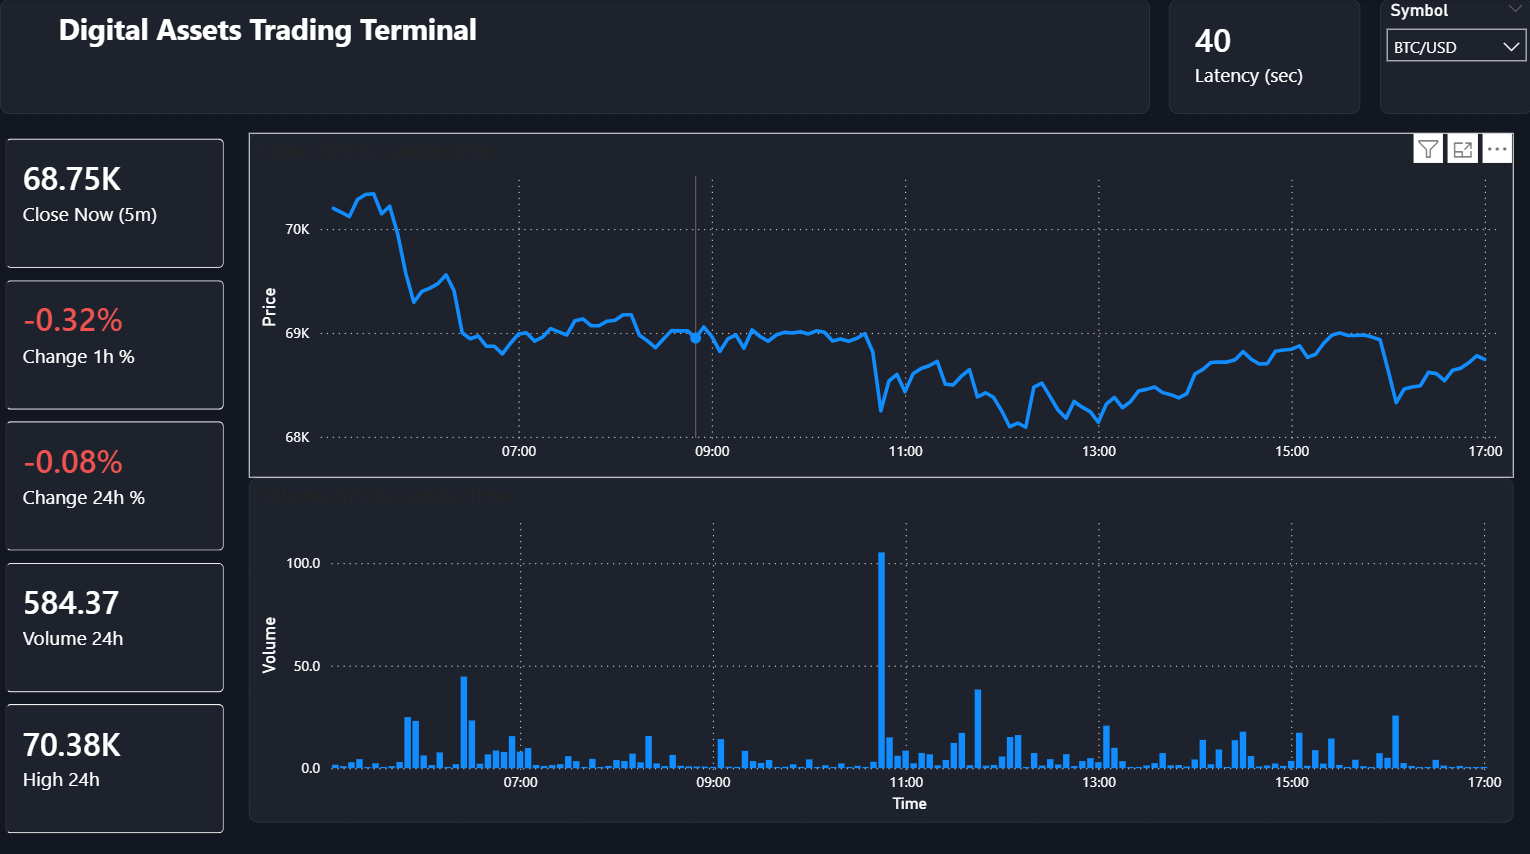

The dashboard page shown, as its layout file describes it:
{"tool":"powerbi","page":{"name":"Overview","canvas":[1280,720],"ordinal":0},"visuals":[{"type":"textbox","box":[0,0,960,96],"z":0},{"type":"columnChart","fields":{"Category":["analytics fct_candles_5m.candle_time"],"Y":["_Measure.Volume (5m)"]},"box":[208,400,1056,288],"z":1000},{"type":"lineChart","fields":{"Category":["analytics fct_candles_5m.candle_time"],"Y":["_Measure.Close (5m)"]},"box":[208,112,1056,288],"z":2000},{"type":"slicer","fields":{"Values":["analytics dim_symbol.symbol"]},"box":[1152,0,128,96],"z":3000},{"type":"cardVisual","fields":{"Data":["_Measure.Latency (sec)"]},"box":[976,0,160,96],"z":4000},{"type":"cardVisual","fields":{"Data":["_Measure.Close Now (5m)","_Measure.Change 1h %","_Measure.Change 24h %","_Measure.Volume 24h","_Measure.High 24h"]},"box":[0,112,192,592],"z":4001}]}

Visuals, with their boxes in screenshot pixels (x1, y1, x2, y2), scaled from the page's 1280x720 canvas onto the 1530x854 screenshot:
textbox: 0/0/1148/114
columnChart - analytics fct_candles_5m.candle_time x _Measure.Volume (5m): 249/474/1511/816
lineChart - analytics fct_candles_5m.candle_time x _Measure.Close (5m): 249/133/1511/474
slicer - analytics dim_symbol.symbol: 1377/0/1529/114
cardVisual - _Measure.Latency (sec): 1167/0/1358/114
cardVisual - _Measure.Close Now (5m) x _Measure.Change 1h %: 0/133/230/835
